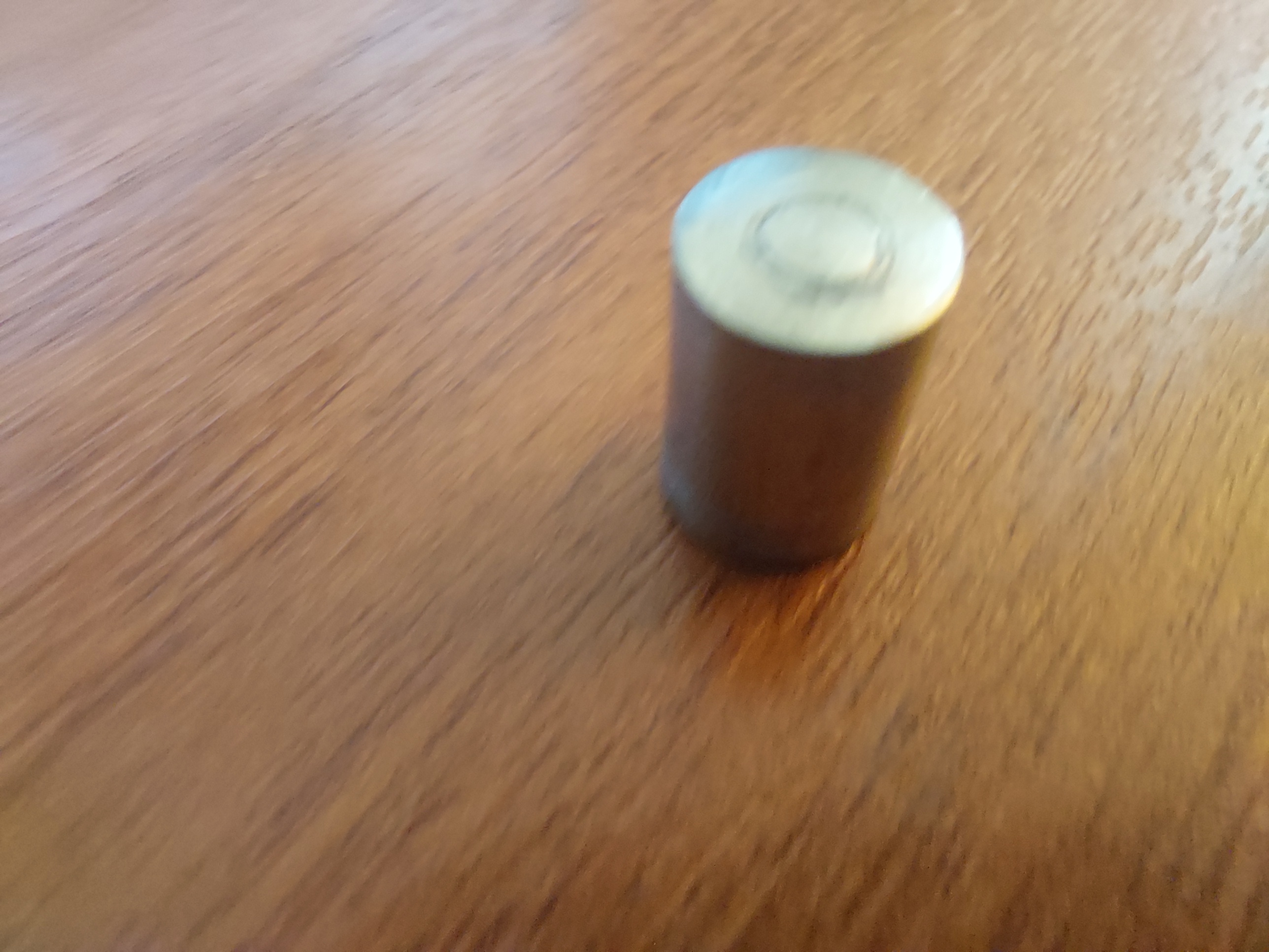tablet: (656, 145, 948, 575)
